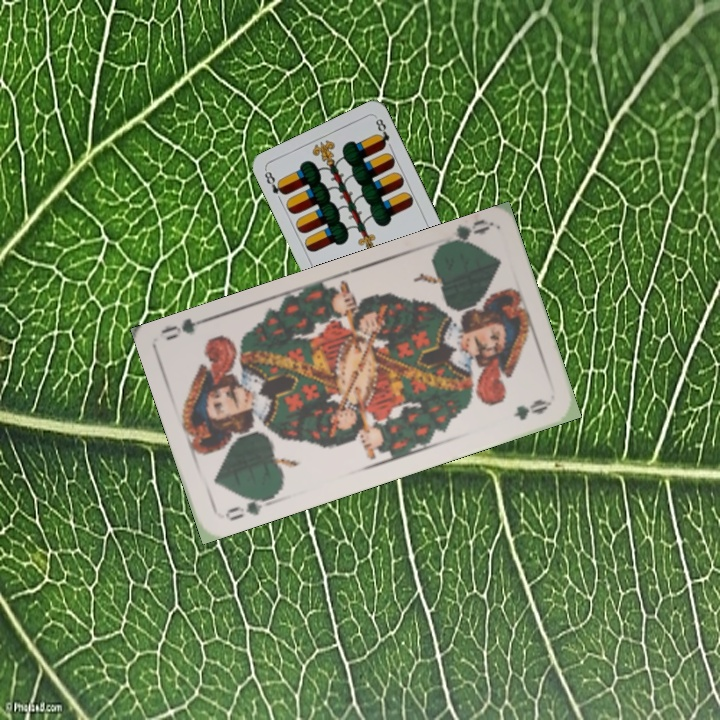E8: (260, 167, 289, 197)
GO: (434, 216, 491, 251), (221, 493, 276, 524)
